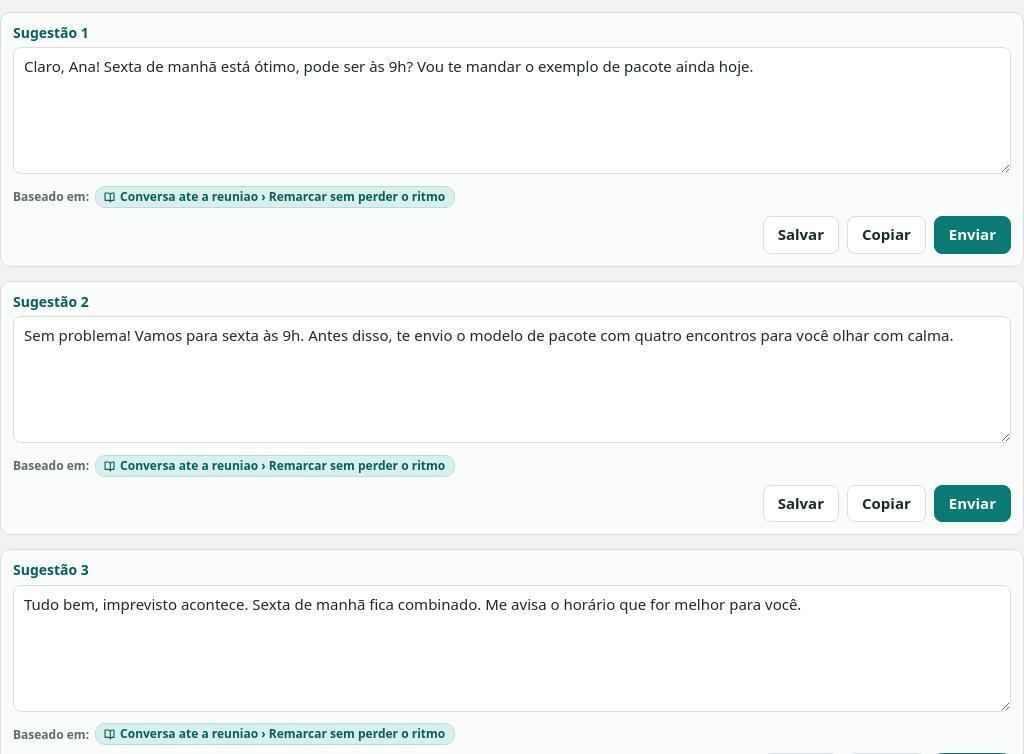
Test case: Horário de envio: confirmação › dentro do horário: sem aviso nem "Forçar envio"
Click the 1st button "Enviar".
click(972, 235)  # box left=934, top=216, right=1011, bottom=254
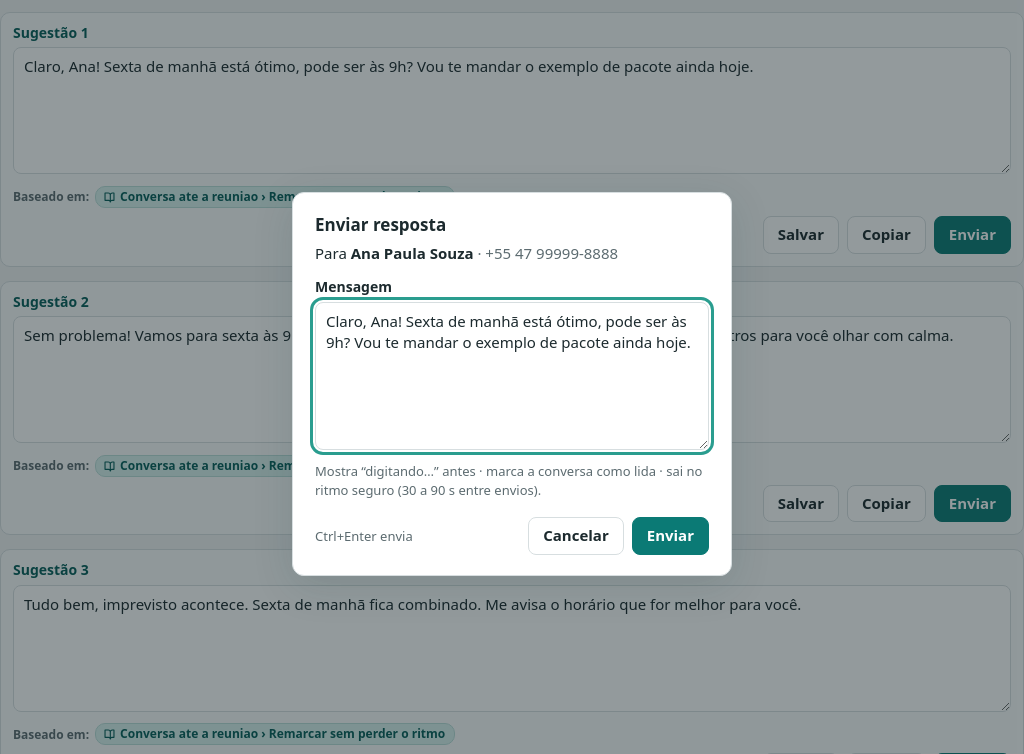
Now the text "Ana Paula Souza" is shown, box left=351, top=244, right=474, bottom=264
